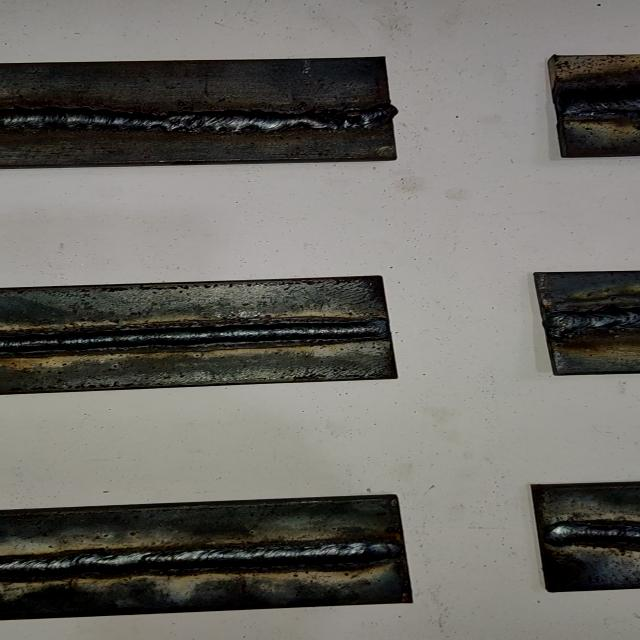Bad Weld: (0, 104, 395, 138)
Defect: (306, 98, 384, 139)
Good Weld: (0, 540, 399, 581), (0, 320, 386, 358), (545, 519, 640, 548), (547, 306, 640, 332), (557, 90, 640, 113)
